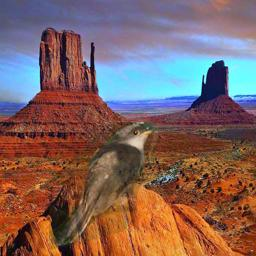Cuckoo: (49, 122, 158, 250)
